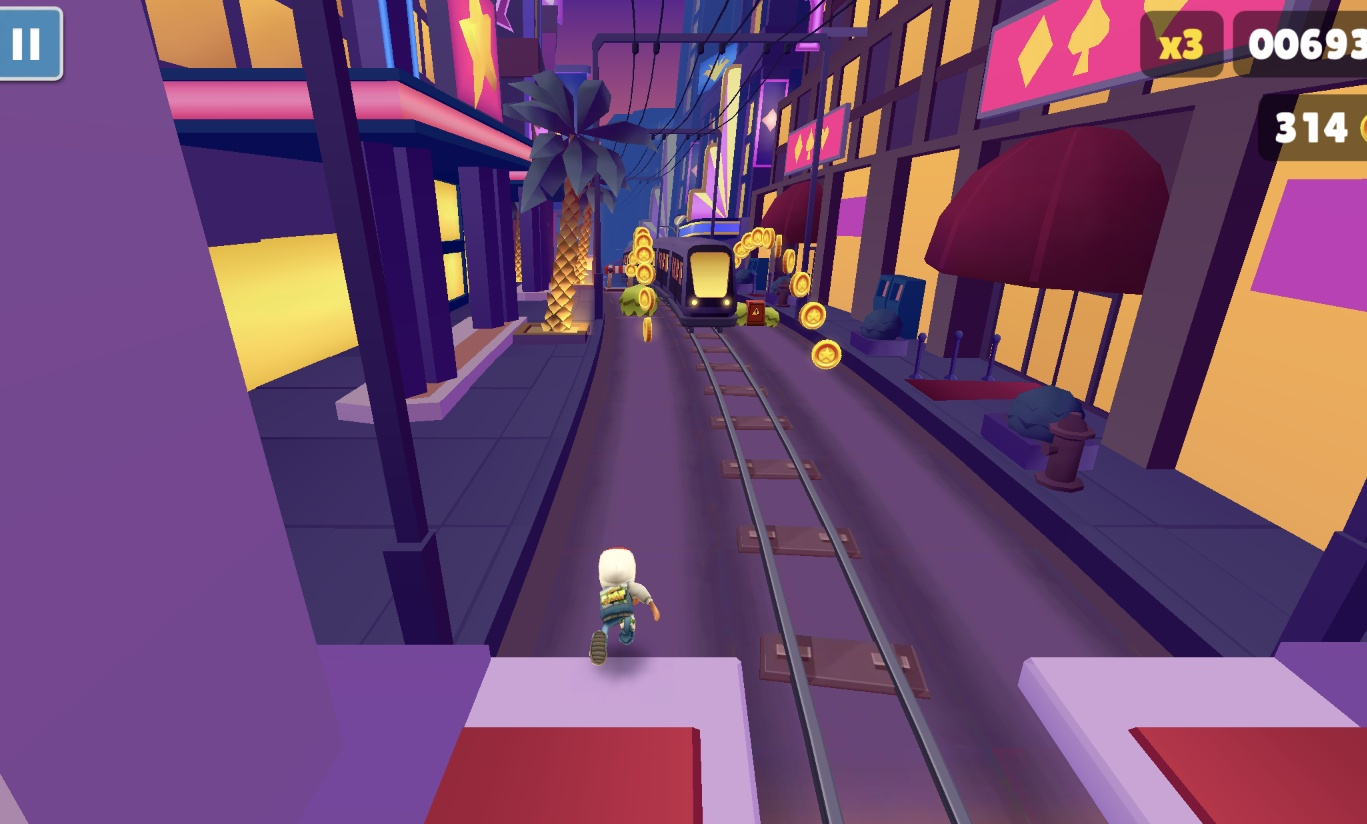bush: (618, 285, 659, 318), (734, 300, 779, 328)
ground_barrier: (605, 263, 631, 291)
small_obstacle: (746, 302, 765, 327)
train: (651, 234, 738, 328), (598, 249, 616, 280)
